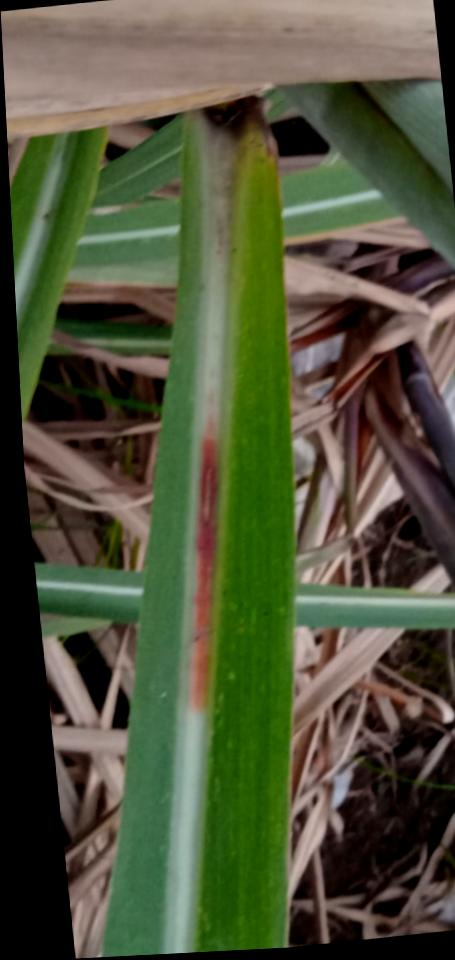RedRot: (192, 419, 218, 708)
